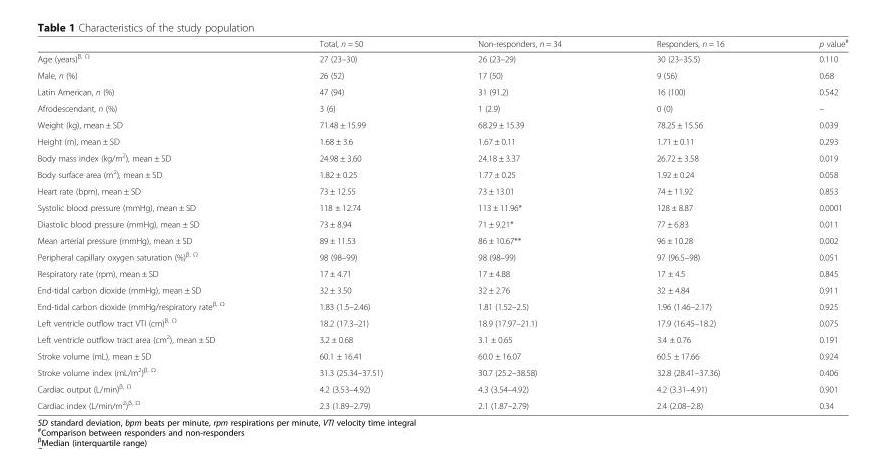table: (37, 36, 848, 410)
table column: (37, 36, 272, 410), (430, 36, 609, 410), (609, 36, 771, 410), (272, 36, 430, 410), (771, 36, 848, 410)
table column header: (37, 36, 848, 49)
table row: (37, 49, 848, 66), (37, 66, 848, 83), (37, 99, 848, 116), (37, 148, 848, 165), (37, 165, 848, 182), (37, 198, 848, 215), (37, 247, 848, 264), (37, 264, 848, 281), (37, 296, 848, 313), (37, 313, 848, 330), (37, 330, 848, 347), (37, 362, 848, 379), (37, 83, 848, 99), (37, 116, 848, 132), (37, 132, 848, 148), (37, 182, 848, 198), (37, 215, 848, 231), (37, 231, 848, 247), (37, 379, 848, 395), (37, 281, 848, 296), (37, 347, 848, 362), (37, 395, 848, 410), (37, 36, 848, 49)
